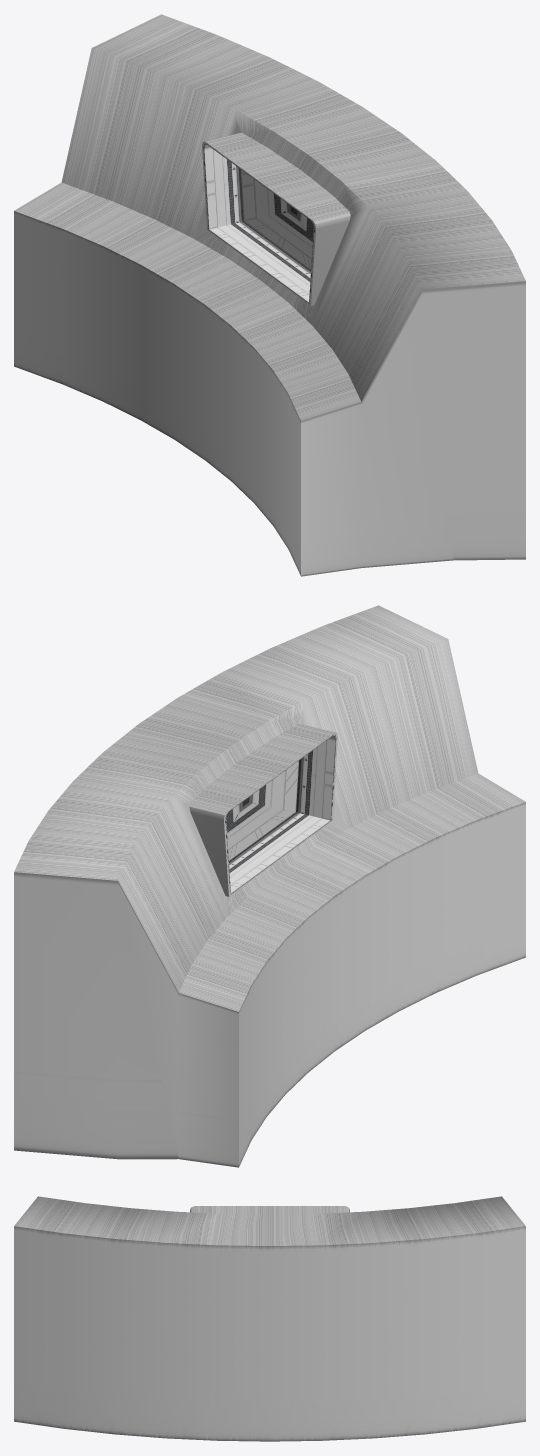
File: terminal.fbx
The picture shows the model from 3 angles, top to bottom: view 1: azimuth 30°, elevation 25°; view 2: azimuth 150°, elevation 25°; view 3: azimuth 270°, elevation 25°; orthographic projection. The views are drawn at different scales.
Parts seen in each view (by area): view 1: terminal; view 2: terminal; view 3: terminal.
Boxes of the visible parts, x1=… form: terminal: x1=14, y1=14, x2=525, y2=576; terminal: x1=14, y1=605, x2=525, y2=1167; terminal: x1=14, y1=1196, x2=525, y2=1441.
Size of the model in its own units: 168 by 183 by 434.
